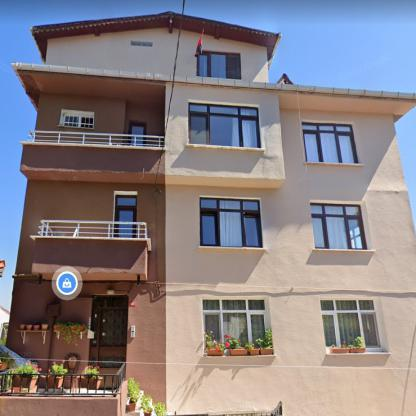door: (100, 308, 126, 386)
window: (190, 103, 260, 147), (203, 298, 266, 343), (201, 198, 260, 246), (320, 300, 379, 347), (310, 203, 366, 249), (302, 123, 356, 163), (199, 52, 240, 79), (117, 210, 133, 236), (64, 114, 93, 128), (130, 124, 144, 146), (93, 298, 127, 306), (117, 196, 136, 205)
